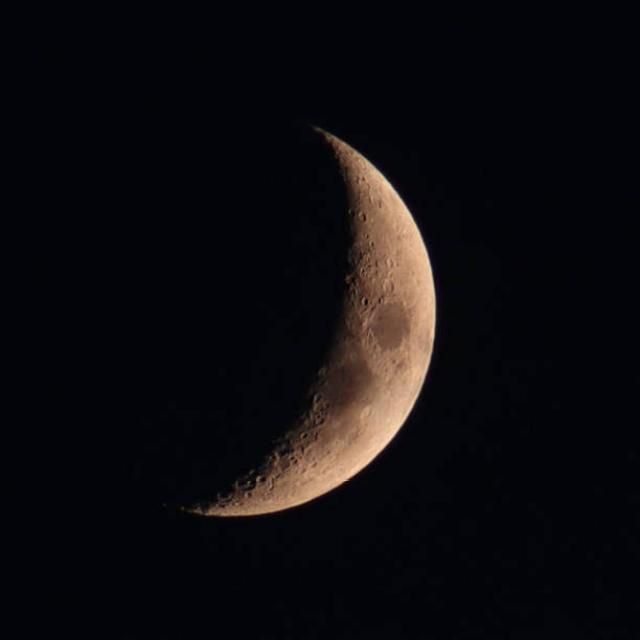moon: (38, 116, 438, 514)
